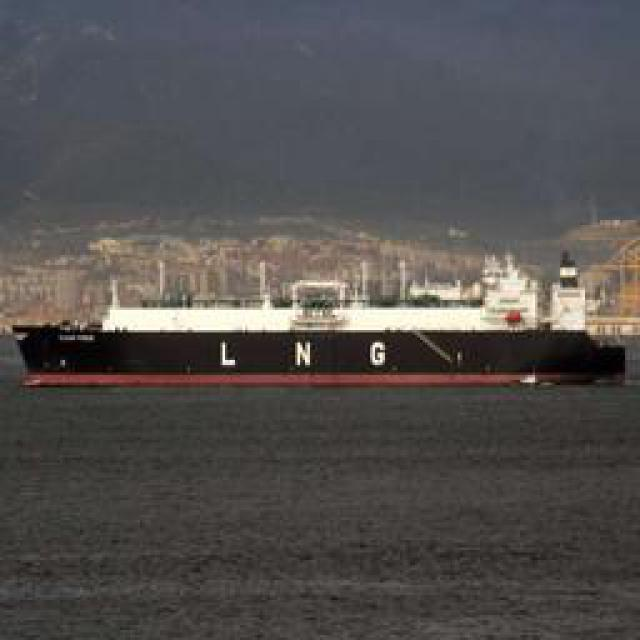Ship: (19, 289, 634, 379)
